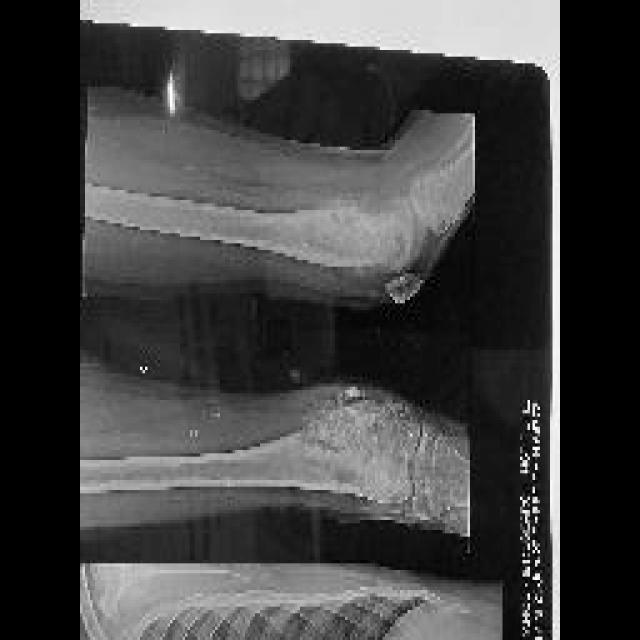bone-cancer: (295, 195, 401, 264), (301, 402, 410, 456)
